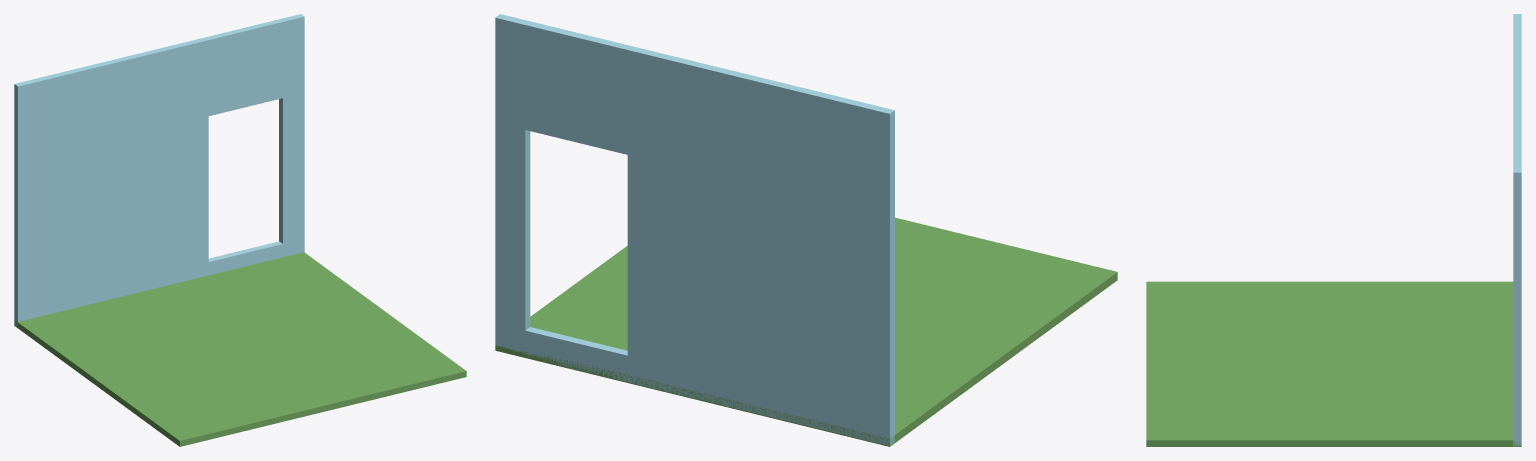
Rendered from Backyard_Walls.fbx.
3 renders of one model, left to right at view 1: azimuth 30°, elevation 25°; view 2: azimuth 150°, elevation 25°; view 3: azimuth 270°, elevation 25°, orthographic. The views are drawn at different scales.
Visible parts, largest first — view 1: Backyard_Walls; view 2: Backyard_Walls; view 3: Backyard_Walls.
Boxes of the visible parts, <box> form: Backyard_Walls: <box>14,14,466,446</box>; Backyard_Walls: <box>495,14,1117,446</box>; Backyard_Walls: <box>1146,14,1521,446</box>.
Bounding box in the file's own units: 500 × 403 × 500.
